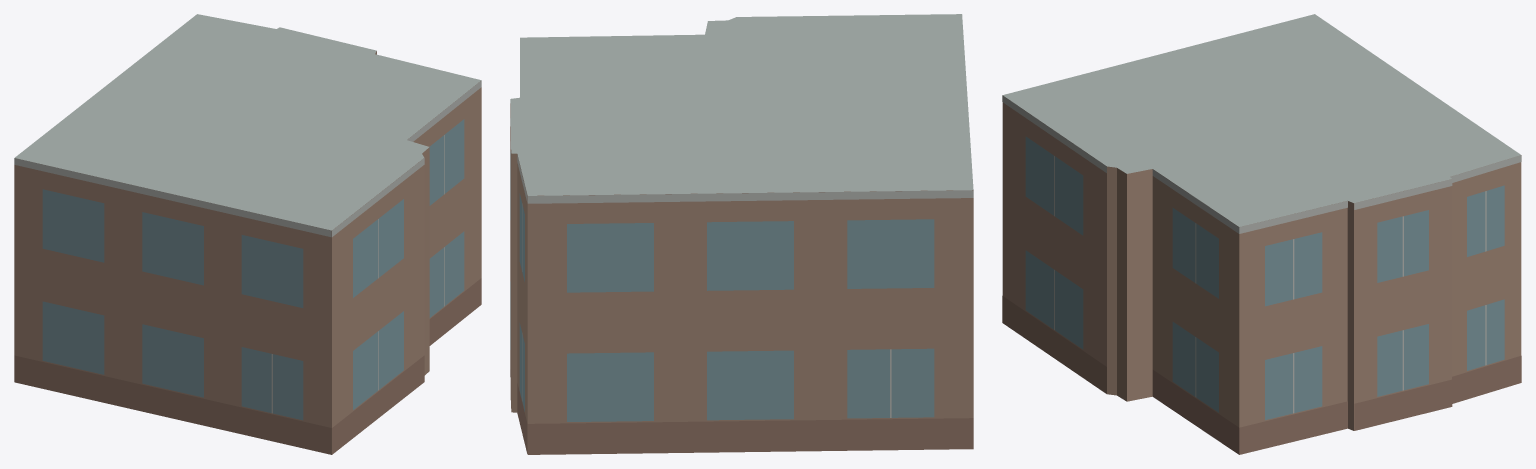
The model's file is survey-upis-32616186.glb.
3 views of the same model, side by side, from view 1: azimuth 30°, elevation 25°; view 2: azimuth 150°, elevation 25°; view 3: azimuth 270°, elevation 25° (orthographic). The views are drawn at different scales.
Parts seen in each view (by area): view 1: survey-upis-32616186.tmp; view 2: survey-upis-32616186.tmp; view 3: survey-upis-32616186.tmp.
Part boxes in pixels (x1=…): survey-upis-32616186.tmp: x1=14, y1=14, x2=481, y2=454; survey-upis-32616186.tmp: x1=510, y1=14, x2=973, y2=454; survey-upis-32616186.tmp: x1=1002, y1=14, x2=1521, y2=454.
Bounding box in the file's own units: 16.06 × 8 × 16.53.
